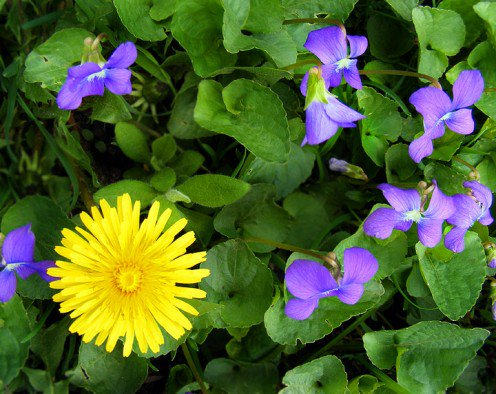violet: (268, 239, 381, 320), (404, 67, 496, 164), (361, 179, 452, 243), (55, 44, 143, 108), (295, 75, 357, 155), (303, 29, 376, 93), (4, 227, 58, 306), (450, 178, 496, 254)
